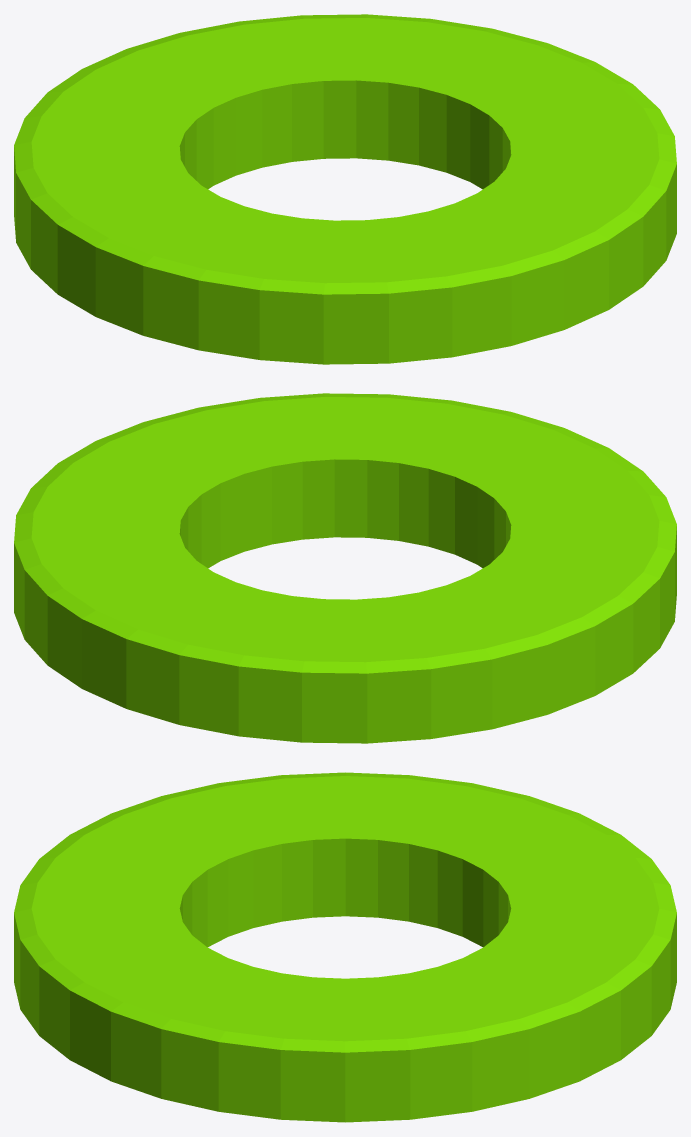
Rendered from SM_CylinderWithAHole.fbx.
3 views of the same model, one above another, from view 1: azimuth 30°, elevation 25°; view 2: azimuth 150°, elevation 25°; view 3: azimuth 270°, elevation 25° (orthographic).
Parts seen in each view (by area): view 1: CylinderWithAHole; view 2: CylinderWithAHole; view 3: CylinderWithAHole.
Part boxes in pixels (x1=…): CylinderWithAHole: x1=14, y1=14, x2=676, y2=364; CylinderWithAHole: x1=14, y1=393, x2=676, y2=743; CylinderWithAHole: x1=14, y1=772, x2=676, y2=1122.
Size of the model in its own units: 200 by 200 by 25.88.
